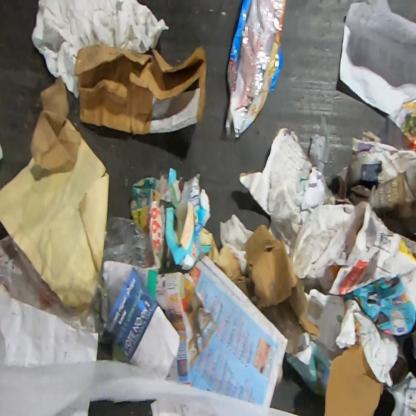cardboard: (73, 42, 208, 136), (230, 223, 322, 337), (164, 168, 211, 271), (324, 343, 386, 416)
soft_plastic: (0, 216, 149, 346), (224, 0, 288, 140)
